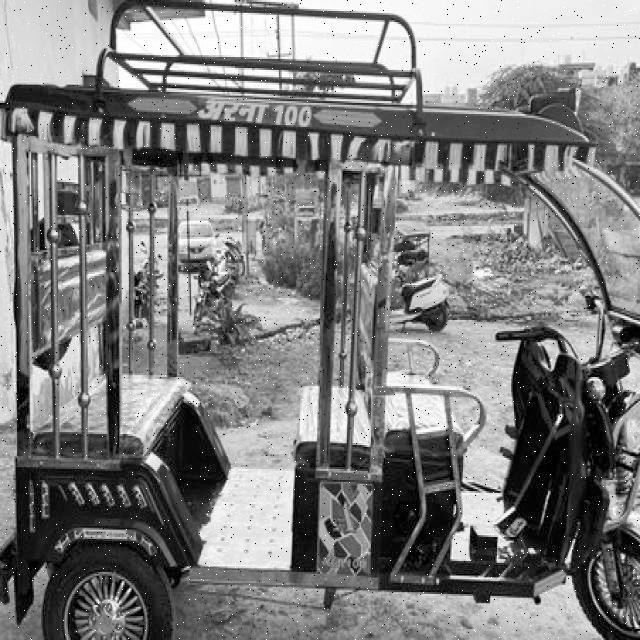Toto: (0, 79, 640, 640)
